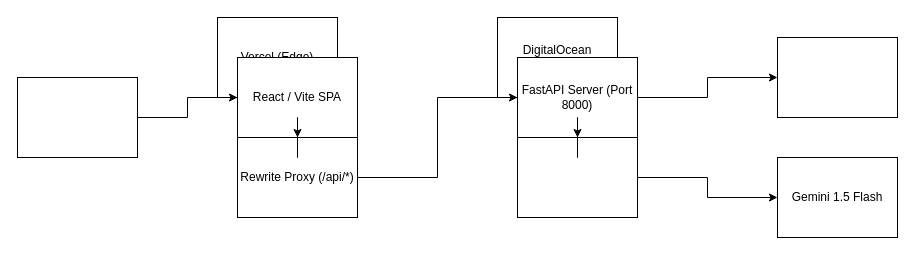
Some shapes in this 915 by 255 pixel diagram are drawn without their labels. Here are the shapes that lost their labels. From the top down, the box of each, then its label:
(776, 36, 898, 118): Supabase (Postgres)
(16, 76, 138, 158): Store Owner (Mobile/Browser)
(516, 136, 638, 218): Agent Layer (Planner, Analyst, Coach)
